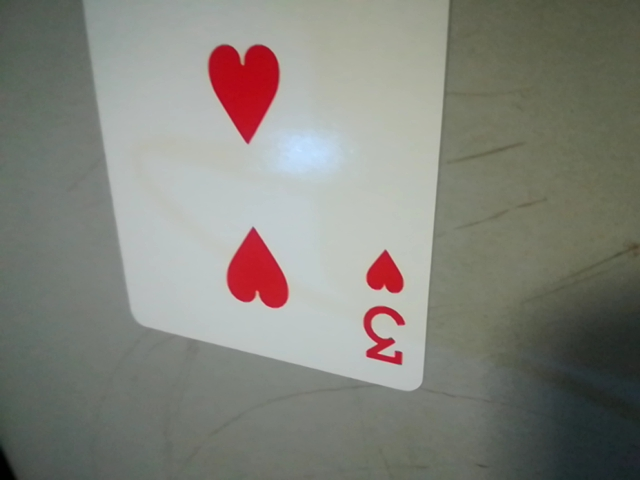hx 3: (349, 242, 419, 380)
